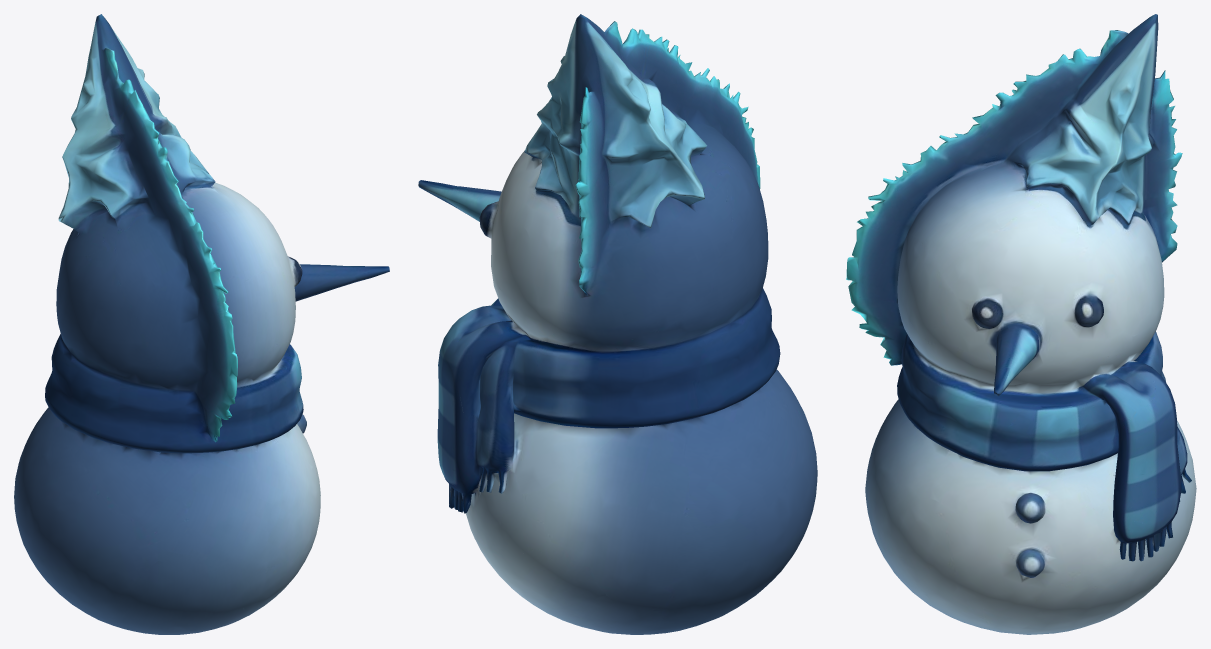
Rendered from frost.glb.
3 renders of one model, left to right at view 1: azimuth 30°, elevation 25°; view 2: azimuth 150°, elevation 25°; view 3: azimuth 270°, elevation 25°, orthographic. The views are drawn at different scales.
Parts seen in each view (by area): view 1: tripo_node_d48c8443-6ec4-460f-840f-1d3ef5b456ba; view 2: tripo_node_d48c8443-6ec4-460f-840f-1d3ef5b456ba; view 3: tripo_node_d48c8443-6ec4-460f-840f-1d3ef5b456ba.
Boxes of the visible parts, x1,y1,x2,y2 form: tripo_node_d48c8443-6ec4-460f-840f-1d3ef5b456ba: (14, 14, 389, 634); tripo_node_d48c8443-6ec4-460f-840f-1d3ef5b456ba: (418, 14, 817, 634); tripo_node_d48c8443-6ec4-460f-840f-1d3ef5b456ba: (846, 14, 1196, 634).
Bounding box in the file's own units: 0.6274 × 1 × 0.5291.
1 material, 1 textured.
